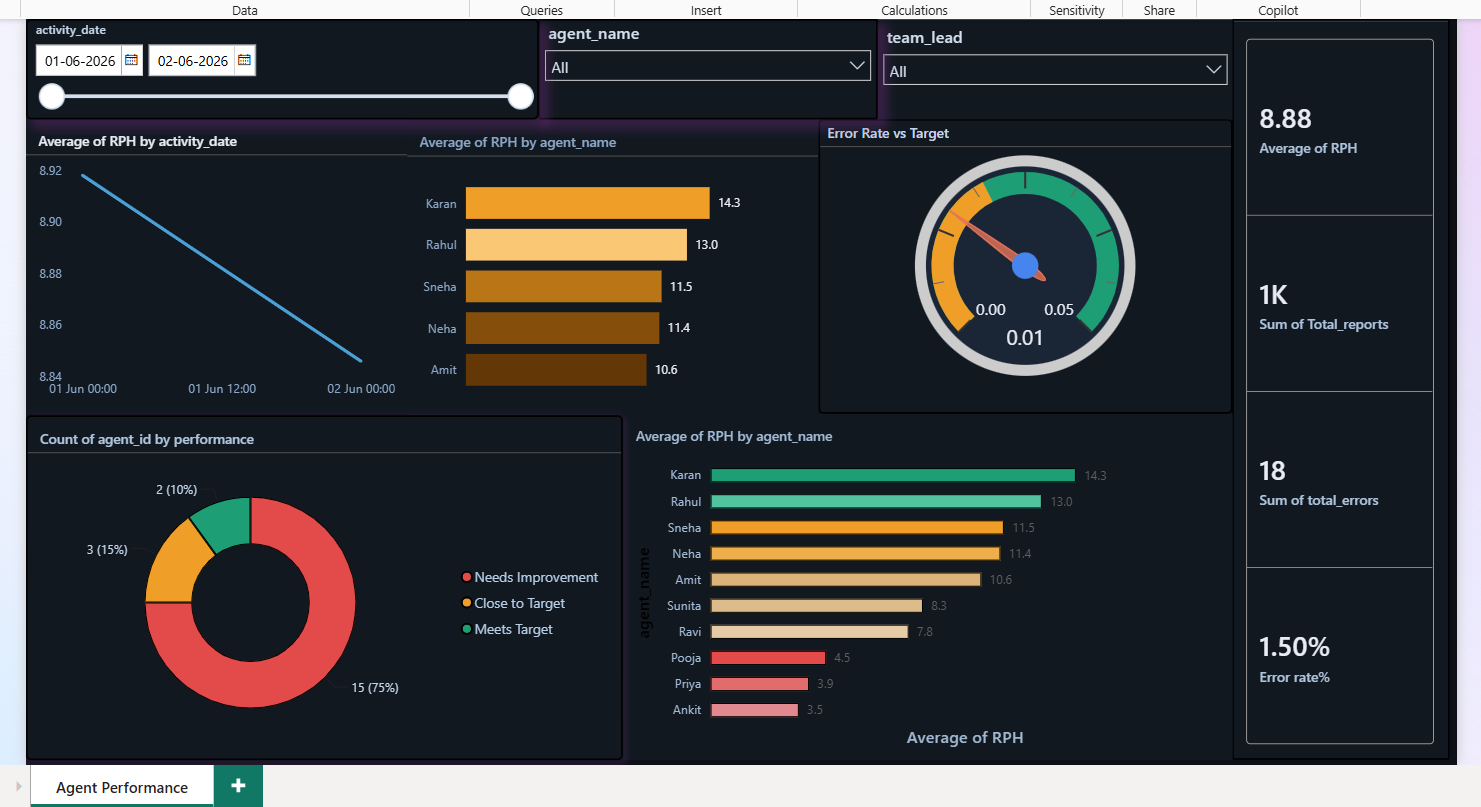

The dashboard page shown, as its layout file describes it:
{"tool":"powerbi","page":{"name":"Agent Performance","canvas":[1390,725],"ordinal":0},"visuals":[{"type":"cardVisual","fields":{"Data":["Avg(final_agent_performance.RPH)","Sum(final_agent_performance.Total_reports)","Sum(final_agent_performance.total_errors)","final_agent_performance.Error rate%"]},"box":[1172.2,0,211,719.9],"z":0},{"type":"lineChart","fields":{"Y":["Avg(final_agent_performance.RPH)"],"Category":["final_agent_performance.activity_date"]},"box":[0,97.6,370.5,286.1],"z":1000},{"type":"barChart","fields":{"Category":["final_agent_performance.agent_name"],"Y":["Avg(final_agent_performance.RPH)"]},"box":[580.1,383.7,592,336.2],"z":2000},{"type":"clusteredBarChart","fields":{"Category":["final_agent_performance.agent_name"],"Y":["Avg(final_agent_performance.RPH)"]},"box":[370.5,98.9,399.5,286.1],"z":3000},{"type":"donutChart","fields":{"Category":["final_agent_performance.performance"],"Y":["CountNonNull(final_agent_performance.agent_id)"]},"box":[0,385,580.1,334.9],"z":4000},{"type":"dg5AAA90EFEFE747CB9357C4FC19B85A58","title":"Error Rate vs Target","fields":{"min":["final_agent_performance.Min Value"],"max":["final_agent_performance.Max Value"],"pointerValue":["final_agent_performance.Error rate%"],"yellowEnd":["final_agent_performance.Target End"],"yellowStart":["final_agent_performance.Target Start"]},"box":[770,97.6,402.1,286.1],"z":5000},{"type":"slicer","fields":{"Values":["final_agent_performance.team_lead"]},"box":[828,0,344.1,97.6],"z":6000},{"type":"slicer","fields":{"Values":["final_agent_performance.agent_name"]},"box":[498.4,0,329.6,97.6],"z":7000},{"type":"slicer","fields":{"Values":["final_agent_performance.activity_date"]},"box":[0,0,498.4,97.6],"z":8000}]}

Visuals, with their boxes on the page's 1390x725 design canvas (x1, y1, x2, y2). These are canvas units, not pixel positions in the 1481x807 screenshot, which may show the page scaled, cropped or inside an application window:
cardVisual - Avg(final_agent_performance.RPH) x Sum(final_agent_performance.Total_reports): box=[1172, 0, 1383, 720]
lineChart - Avg(final_agent_performance.RPH) x final_agent_performance.activity_date: box=[0, 98, 370, 384]
barChart - final_agent_performance.agent_name x Avg(final_agent_performance.RPH): box=[580, 384, 1172, 720]
clusteredBarChart - final_agent_performance.agent_name x Avg(final_agent_performance.RPH): box=[370, 99, 770, 385]
donutChart - final_agent_performance.performance x CountNonNull(final_agent_performance.agent_id): box=[0, 385, 580, 720]
"Error Rate vs Target" dg5AAA90EFEFE747CB9357C4FC19B85A58: box=[770, 98, 1172, 384]
slicer - final_agent_performance.team_lead: box=[828, 0, 1172, 98]
slicer - final_agent_performance.agent_name: box=[498, 0, 828, 98]
slicer - final_agent_performance.activity_date: box=[0, 0, 498, 98]
